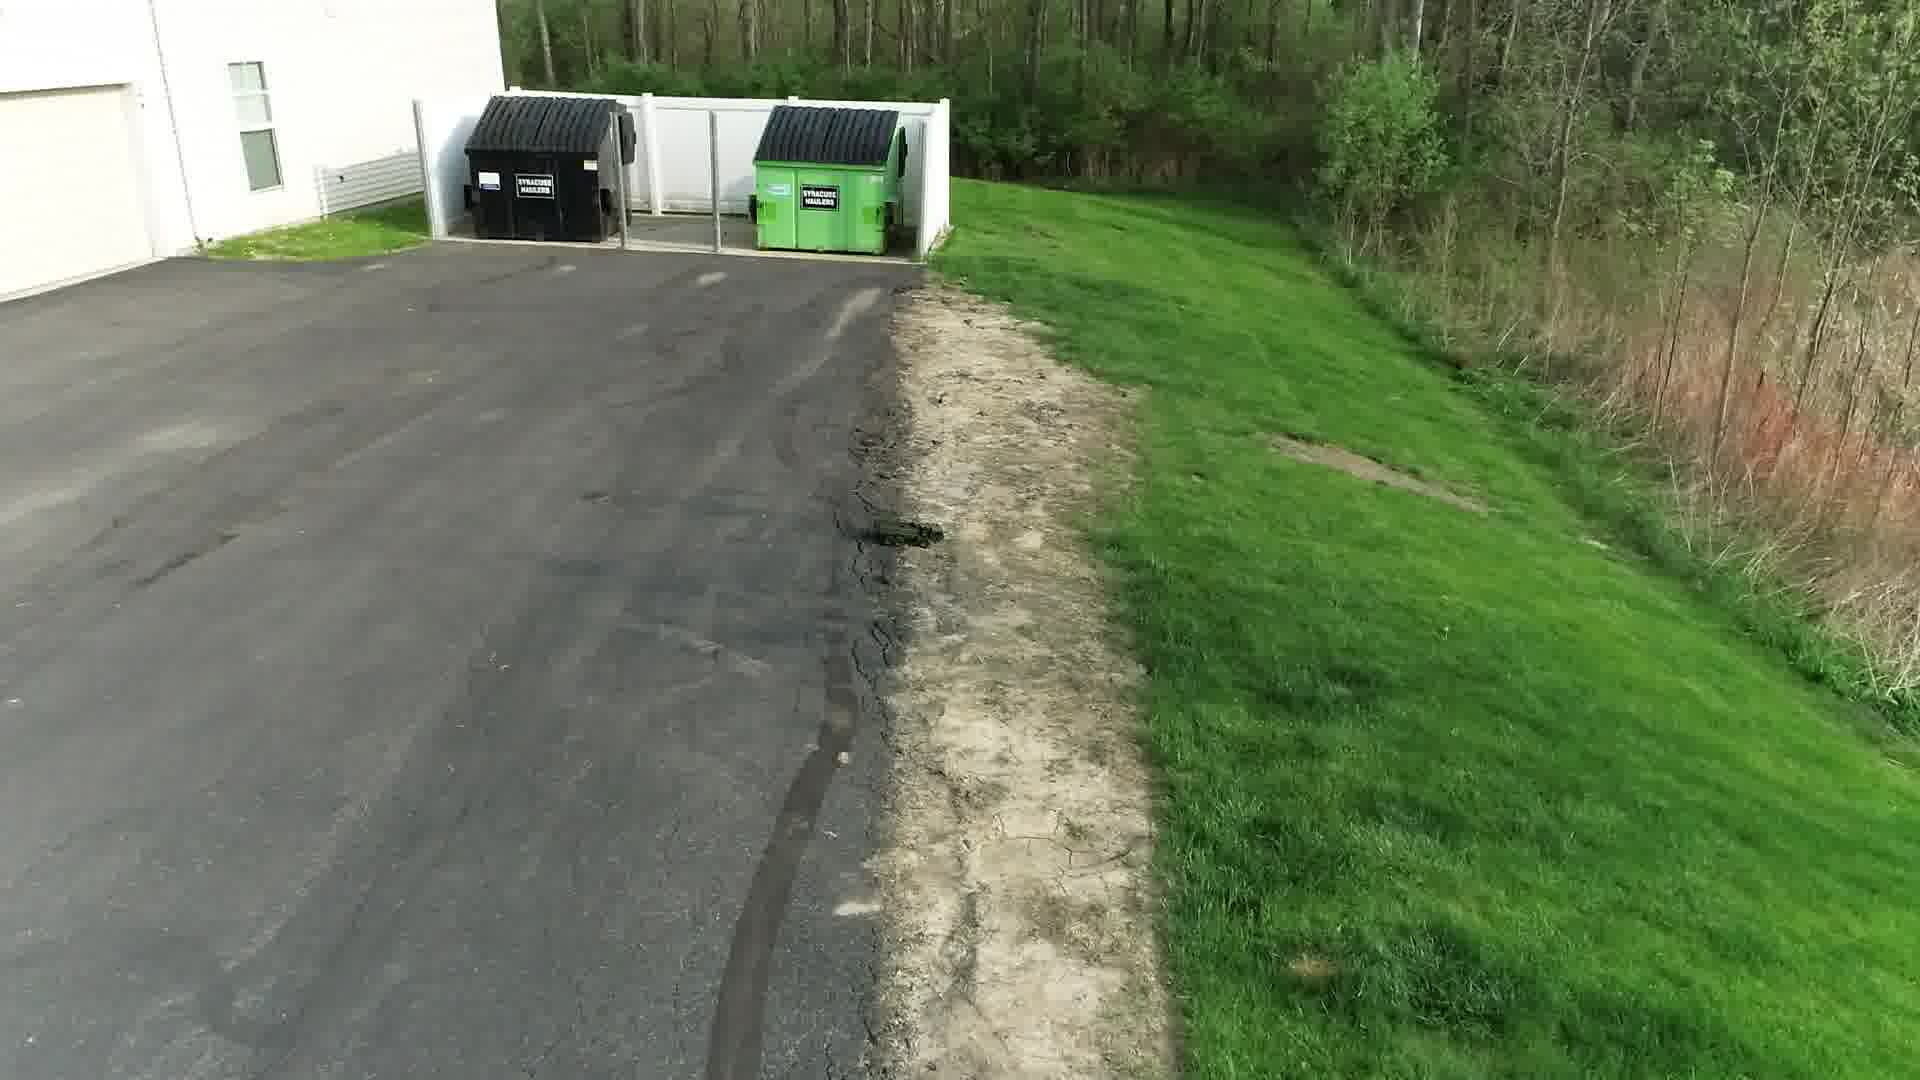transporter9: (876, 517, 948, 550)
